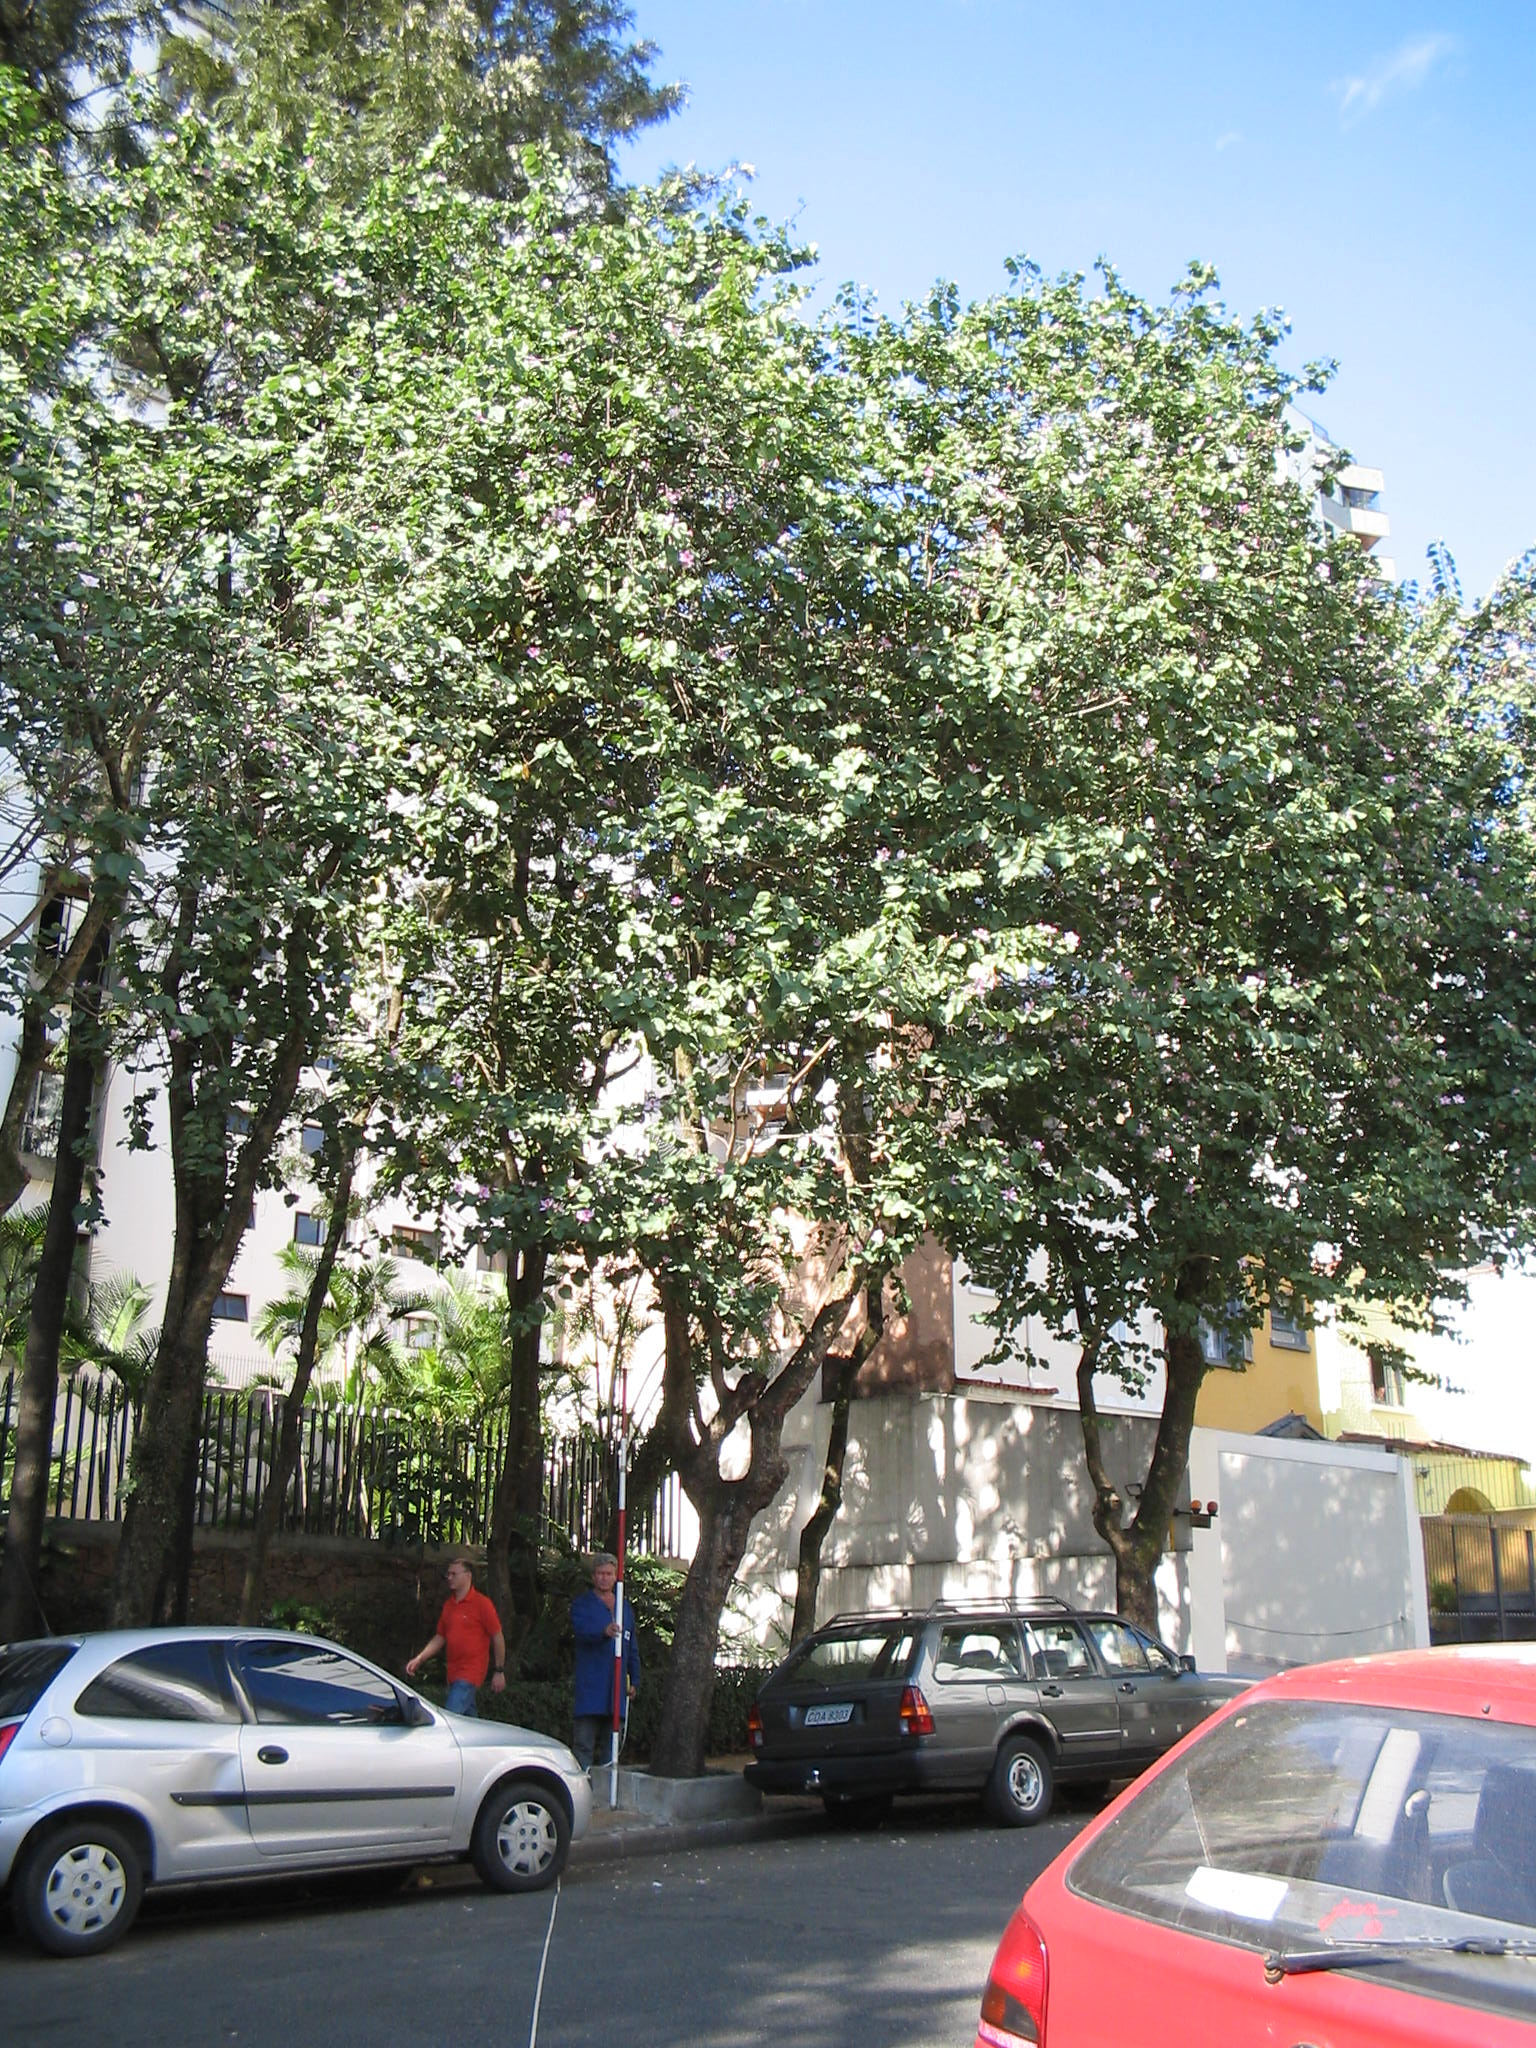crown: (895, 284, 1536, 1390)
stem: (90, 1317, 219, 1851), (645, 1508, 760, 1785), (1083, 1555, 1204, 1782)
stick: (602, 1364, 641, 1813)
tree: (892, 268, 1536, 1769)
